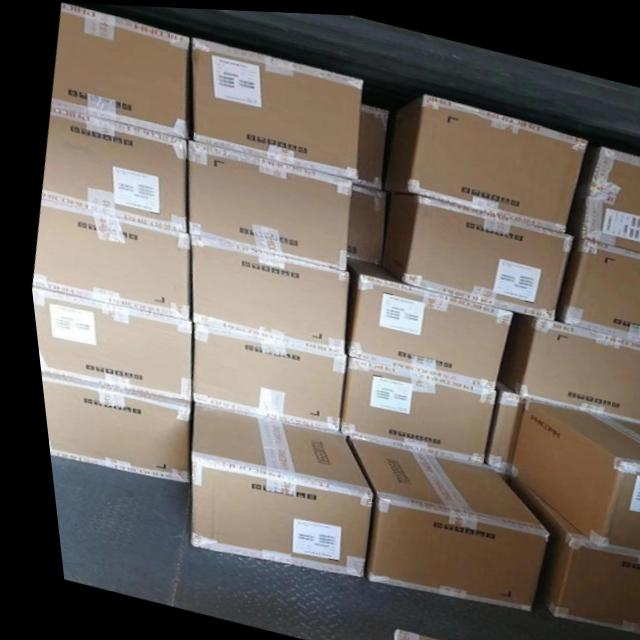box: (335, 431, 536, 607), (177, 400, 361, 574), (380, 90, 585, 227), (375, 190, 568, 316), (190, 36, 360, 177), (497, 468, 640, 630), (499, 393, 640, 551), (340, 254, 506, 386), (183, 138, 349, 268), (26, 198, 183, 319), (185, 232, 343, 352), (48, 2, 188, 137), (25, 286, 185, 402), (37, 105, 183, 231), (331, 353, 487, 460), (491, 307, 640, 419), (184, 322, 339, 429), (33, 372, 181, 482), (549, 233, 640, 338), (575, 140, 640, 248), (474, 376, 516, 467), (341, 182, 382, 262), (349, 100, 386, 186), (377, 626, 439, 640)
